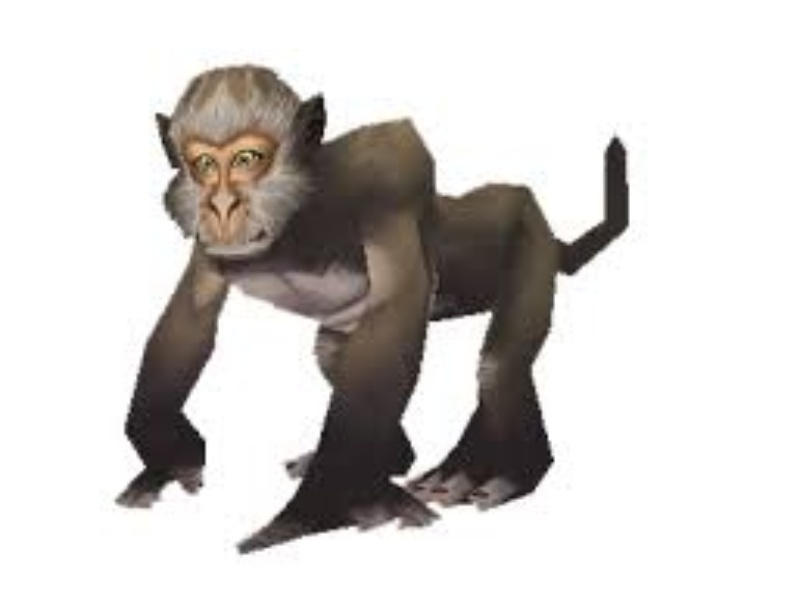monkey: (105, 51, 647, 558)
